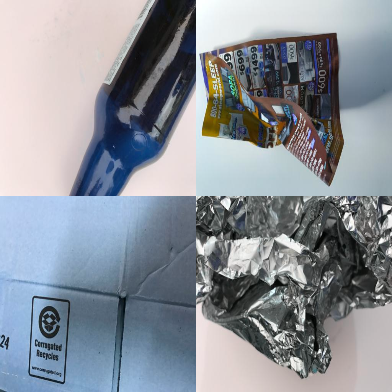cardboard: (1, 197, 195, 390)
glass: (69, 1, 195, 196)
metal: (195, 196, 392, 378)
paper: (199, 33, 345, 188)
